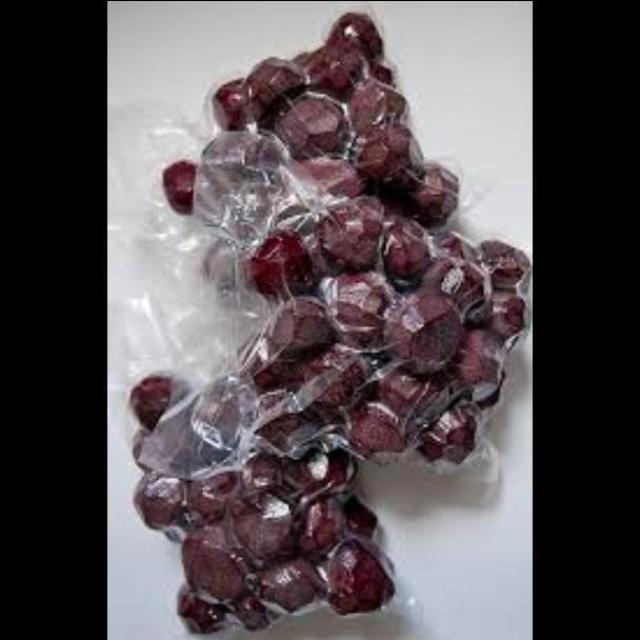beet: (238, 192, 530, 468), (120, 368, 408, 640), (156, 7, 450, 256)
